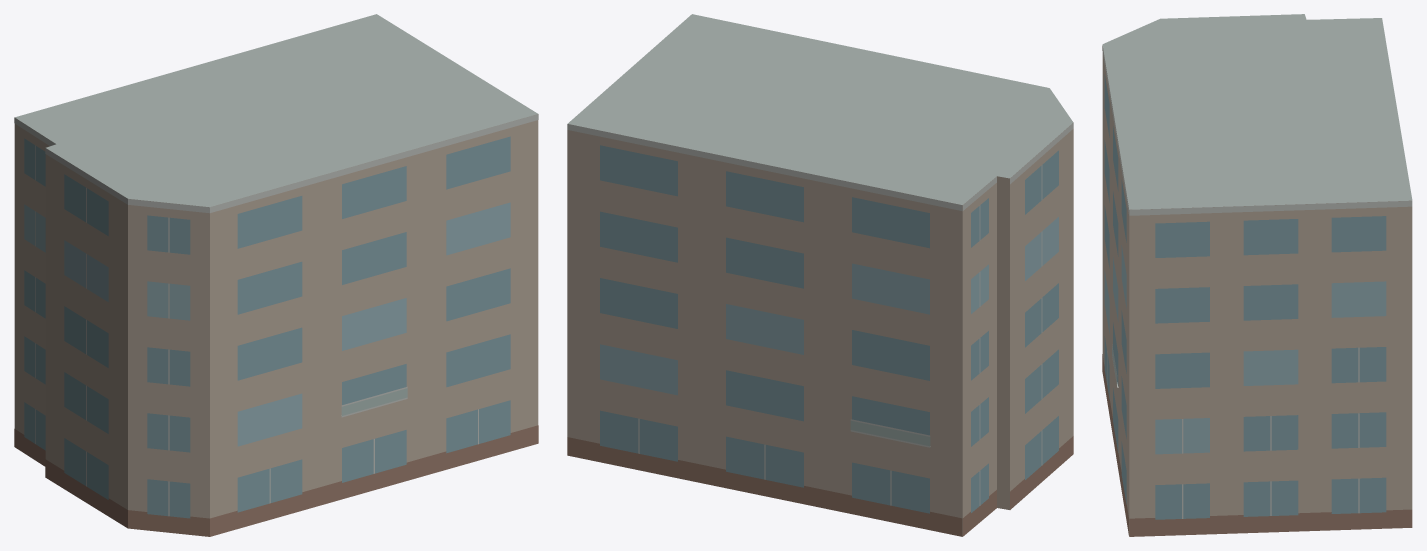
Rendered from survey-upis-32711217.glb.
The picture shows the model from 3 angles, left to right: view 1: azimuth 30°, elevation 25°; view 2: azimuth 150°, elevation 25°; view 3: azimuth 270°, elevation 25°; orthographic projection.
Parts seen in each view (by area): view 1: survey-upis-32711217.tmp; view 2: survey-upis-32711217.tmp; view 3: survey-upis-32711217.tmp.
Boxes of the visible parts, x1=… form: survey-upis-32711217.tmp: x1=14, y1=14, x2=538, y2=536; survey-upis-32711217.tmp: x1=567, y1=14, x2=1073, y2=536; survey-upis-32711217.tmp: x1=1102, y1=14, x2=1412, y2=536.
Size of the model in its own units: 17.09 by 13.3 by 11.44.
